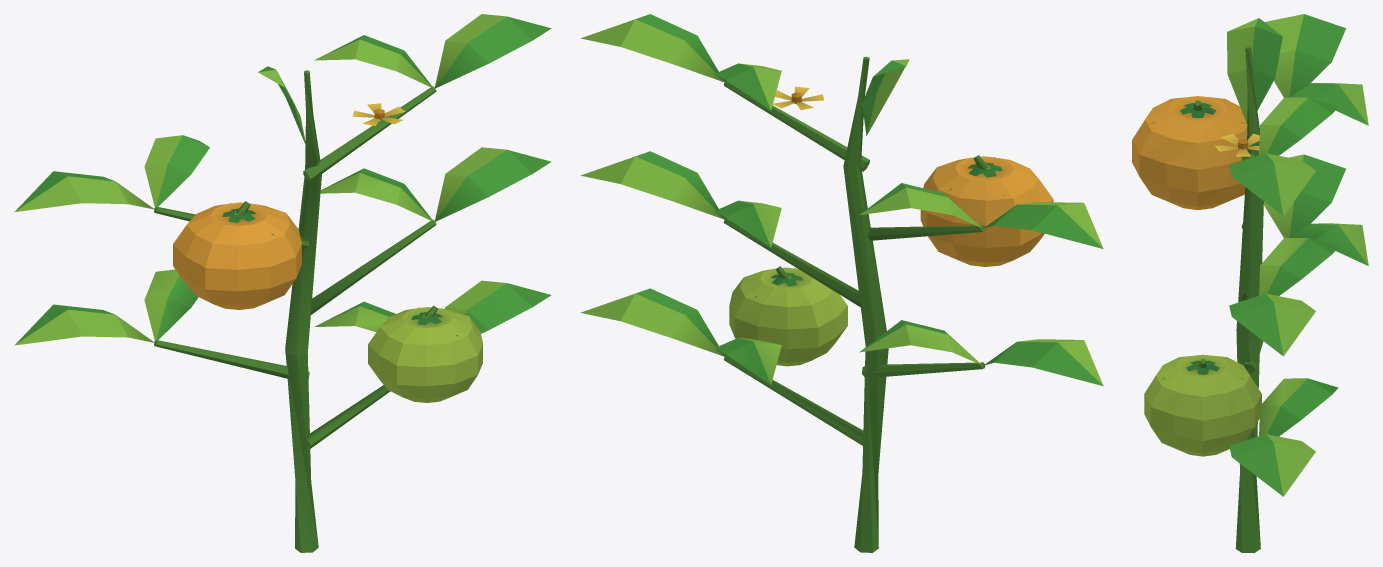
File: Tomato_3.glb
3 views of the same model, side by side, from view 1: azimuth 30°, elevation 25°; view 2: azimuth 150°, elevation 25°; view 3: azimuth 270°, elevation 25° (orthographic). The views are drawn at different scales.
Visible parts, largest first — view 1: Tomato_3; view 2: Tomato_3; view 3: Tomato_3.
Part boxes in pixels (x1=…): Tomato_3: x1=14, y1=14, x2=551, y2=552; Tomato_3: x1=580, y1=14, x2=1103, y2=552; Tomato_3: x1=1132, y1=14, x2=1368, y2=552.
Size of the model in its own units: 1.27 by 1.12 by 0.4707.
